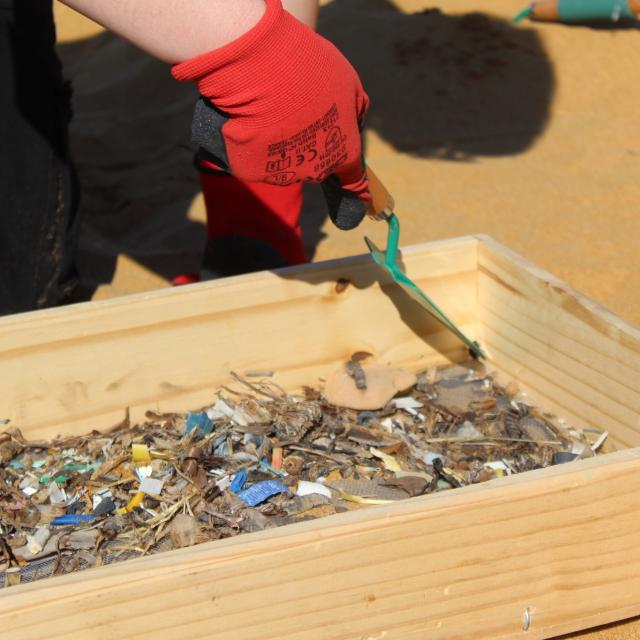Other plastic: (234, 434, 288, 477), (209, 399, 271, 431), (236, 478, 290, 509), (41, 458, 103, 482), (433, 455, 465, 488), (391, 398, 434, 422), (185, 409, 215, 441), (132, 445, 179, 465), (297, 474, 333, 498), (114, 490, 146, 516), (51, 515, 95, 530), (134, 477, 163, 498), (229, 468, 247, 497), (5, 458, 46, 469), (416, 448, 443, 463), (551, 450, 582, 463), (133, 466, 155, 483), (486, 459, 512, 470)
